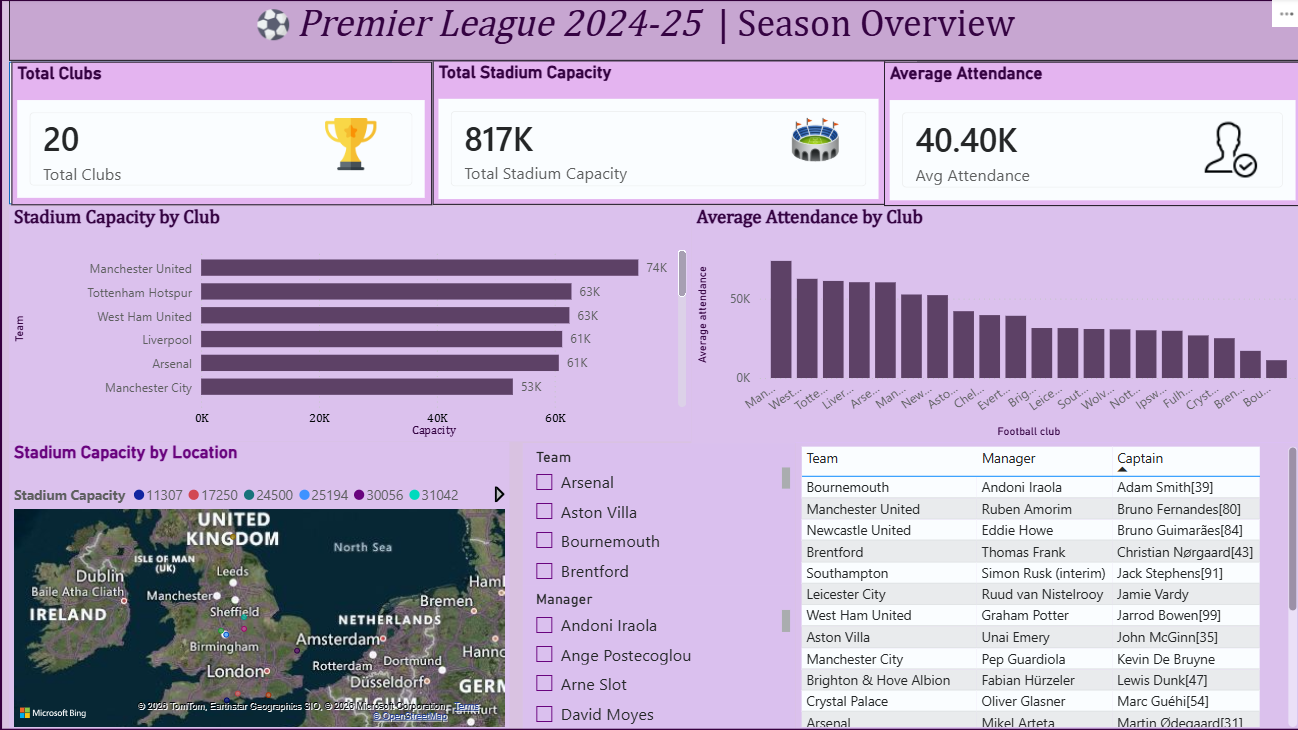

What the dashboard file says about the page in this screenshot:
{"tool":"powerbi","page":{"name":"Page 1","canvas":[1280,720],"ordinal":1},"visuals":[{"type":"textbox","box":[9.6,0,1270.7,61.7],"z":0},{"type":"shape","box":[9.6,63.1,376,140],"z":1000},{"type":"cardVisual","title":"Total Clubs","fields":{"Data":["Count(Clubs.Team)"]},"box":[12.4,62.2,413,140.6],"z":2000},{"type":"shape","box":[452.8,61.7,384.2,138.6],"z":3000},{"type":"shape","box":[901.5,63.1,378.7,138.6],"z":4000},{"type":"cardVisual","title":"Total Stadium Capacity","fields":{"Data":["Sum(Clubs.Capacity[28])"]},"box":[425.8,61.4,444.1,141.8],"z":5000},{"type":"cardVisual","title":"Average Attendance","fields":{"Data":["Avg(Attendance.Average attendance[196])"]},"box":[868.7,62.6,410.5,141.8],"z":6000},{"type":"clusteredBarChart","title":"Stadium Capacity by Club","fields":{"Category":["Clubs.Team"],"Y":["Sum(Clubs.Capacity[28])"]},"box":[9.8,204.9,669.9,230.7],"z":7000},{"type":"clusteredColumnChart","title":"Average Attendance by Club","fields":{"Category":["Attendance.Football club"],"Y":["Sum(Attendance.Average attendance[196])"]},"box":[679.8,204.9,600,231.9],"z":8000},{"type":"map","title":"Stadium Capacity by Location","fields":{"Category":["Clubs.Location"],"Series":["Clubs.Capacity[28]"]},"box":[9.6,435,491.3,285.4],"z":9000},{"type":"tableEx","fields":{"Values":["Managers.Team","Managers.Manager","Managers.Captain"]},"box":[781.6,435.6,498.2,284.7],"z":10000},{"type":"slicer","fields":{"Values":["Clubs.Team"]},"box":[514.1,436.8,267.5,139.9],"z":11000},{"type":"slicer","fields":{"Values":["Managers.Manager"]},"box":[514.1,576.7,267.5,143.6],"z":12000},{"type":"image","box":[312.9,117.8,64.7,51],"z":13000},{"type":"image","box":[765.6,110.4,70.9,58.5],"z":14000},{"type":"image","box":[1171.8,117.8,68.4,58.5],"z":15000},{"type":"shape","box":[0,0,1279.8,720.2],"z":15001},{"type":"image","box":[239.3,11,60.1,30.7],"z":15002}]}

Visuals, with their boxes in screenshot pixels (x1, y1, x2, y2), scaled from the page's 1280x720 canvas onto the 1298x730 screenshot:
textbox: left=10, top=0, right=1297, bottom=63
shape: left=10, top=64, right=391, bottom=206
"Total Clubs" cardVisual: left=13, top=63, right=431, bottom=206
shape: left=459, top=63, right=849, bottom=203
shape: left=914, top=64, right=1297, bottom=205
"Total Stadium Capacity" cardVisual: left=432, top=62, right=882, bottom=206
"Average Attendance" cardVisual: left=881, top=63, right=1297, bottom=207
"Stadium Capacity by Club" clusteredBarChart: left=10, top=208, right=689, bottom=442
"Average Attendance by Club" clusteredColumnChart: left=689, top=208, right=1297, bottom=443
"Stadium Capacity by Location" map: left=10, top=441, right=508, bottom=729
tableEx - Managers.Team x Managers.Manager: left=793, top=442, right=1297, bottom=729
slicer - Clubs.Team: left=521, top=443, right=793, bottom=585
slicer - Managers.Manager: left=521, top=585, right=793, bottom=729
image: left=317, top=119, right=383, bottom=171
image: left=776, top=112, right=848, bottom=171
image: left=1188, top=119, right=1258, bottom=179
shape: left=0, top=0, right=1297, bottom=729
image: left=243, top=11, right=304, bottom=42
